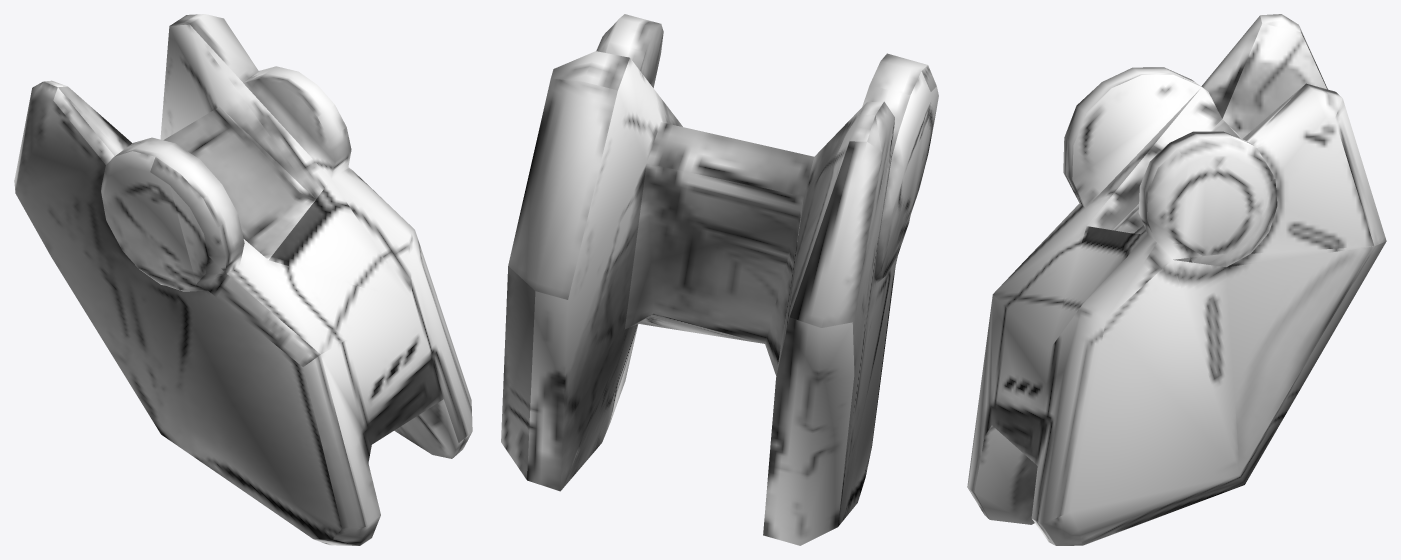
The model's file is l_meta.glb.
3 views of the same model, side by side, from view 1: azimuth 30°, elevation 25°; view 2: azimuth 150°, elevation 25°; view 3: azimuth 270°, elevation 25° (orthographic). The views are drawn at different scales.
Parts seen in each view (by area): view 1: l_meta; view 2: l_meta; view 3: l_meta.
Part boxes in pixels (x1=…): l_meta: x1=14, y1=14, x2=472, y2=545; l_meta: x1=501, y1=14, x2=938, y2=545; l_meta: x1=967, y1=14, x2=1386, y2=545.
Size of the model in its own units: 0.6587 by 0.7985 by 0.6924.
3 materials, 3 textured.
